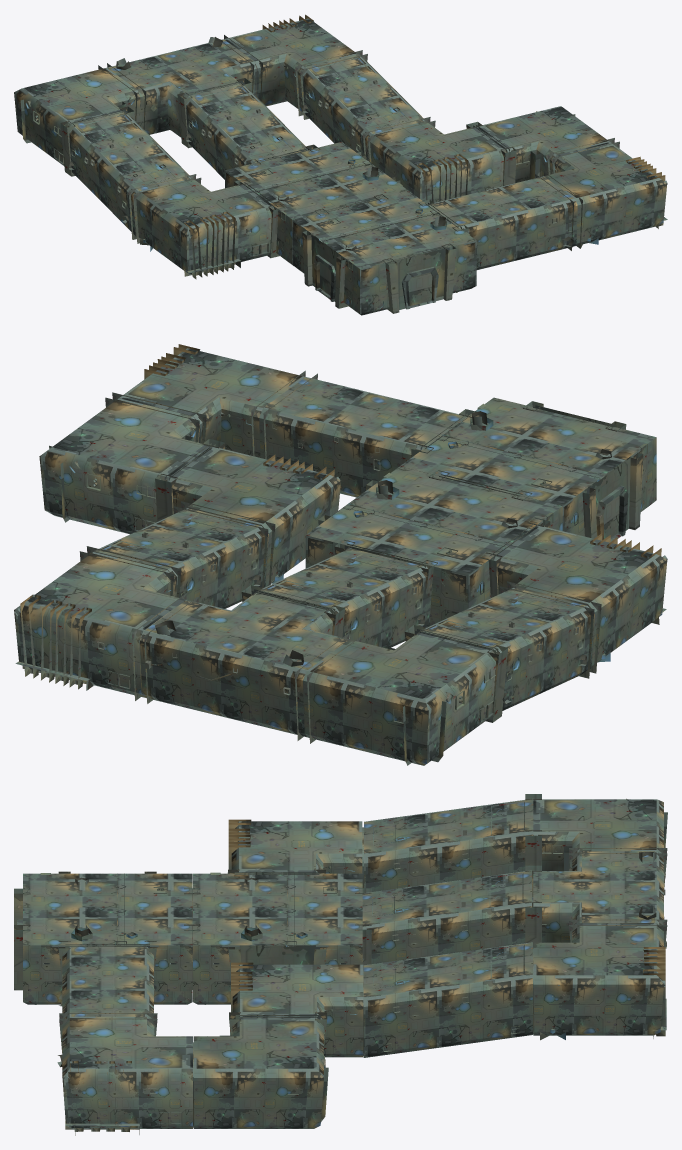
File: Combined_Mesh_root_scene__6_2d4a9e78__zombies2_diffuse_02_6de118bf_c1f257.obj
3 views of the same model, one above another, from view 1: azimuth 30°, elevation 25°; view 2: azimuth 150°, elevation 25°; view 3: azimuth 270°, elevation 25° (orthographic). The views are drawn at different scales.
Size of the model in its own units: 71.92 by 12.27 by 77.15.
202 materials, 202 textured.
